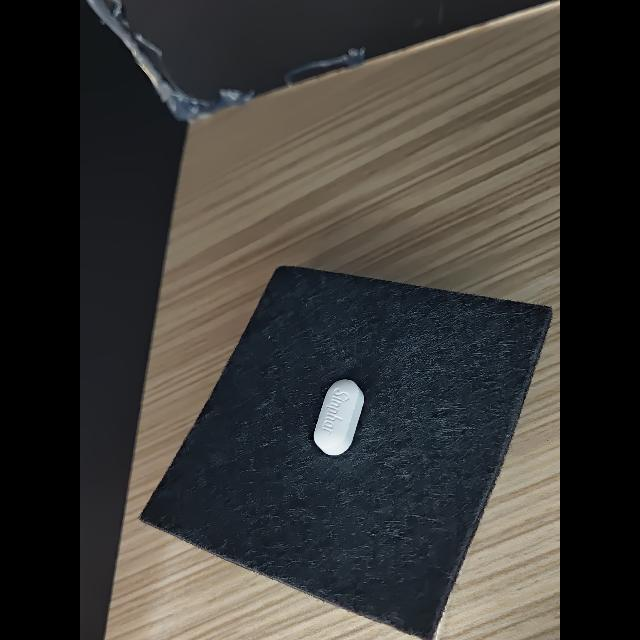Intact Pill: (314, 379, 364, 455)
